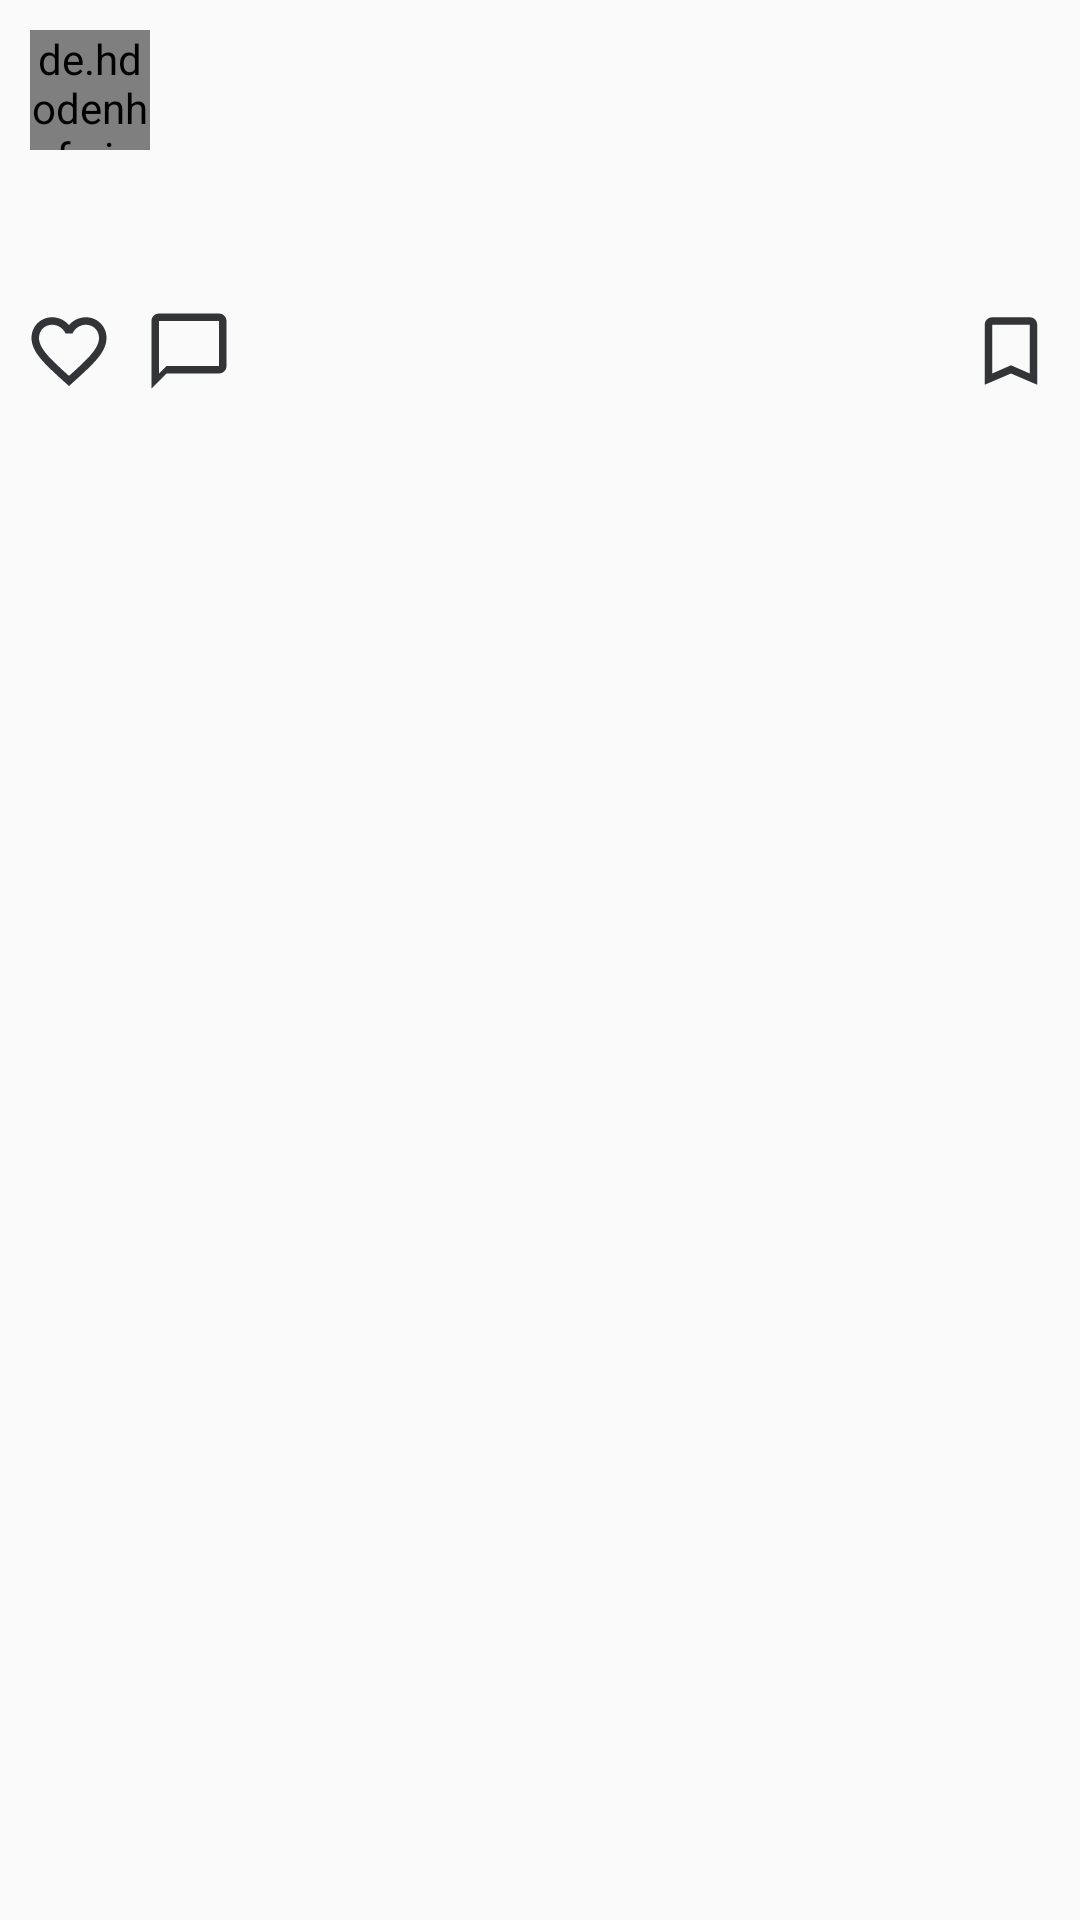

Icon click points for this 1080w x 1920h phone screenshot, format (x,y):
bookmark border: (1011,351)
comment border: (189,351)
fav border: (69,351)
